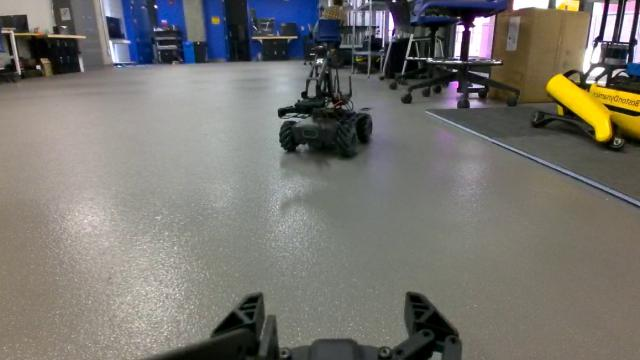robot: (271, 46, 376, 164)
